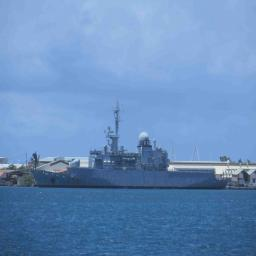Fragata: (30, 97, 235, 192)
